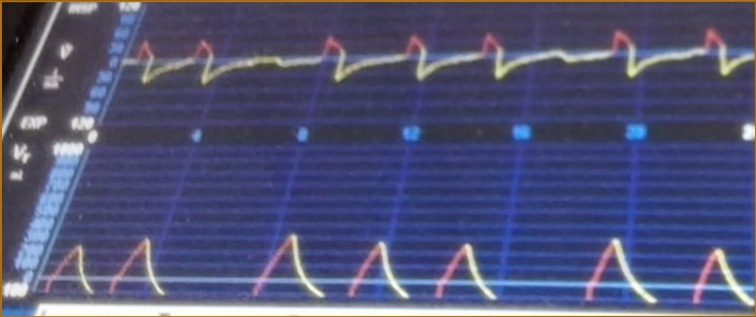Ineffective_effort Flow: (129, 20, 753, 108)
Ineffective_effort Volume: (43, 230, 756, 303)
